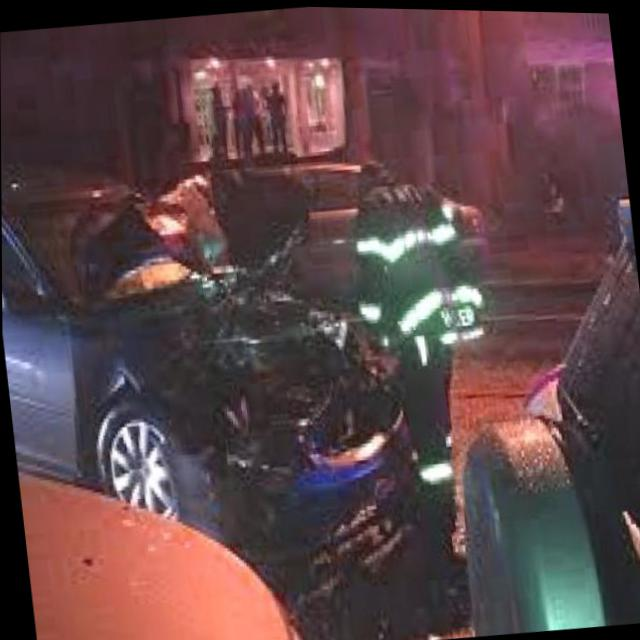Car-Damage: (62, 155, 419, 586)
